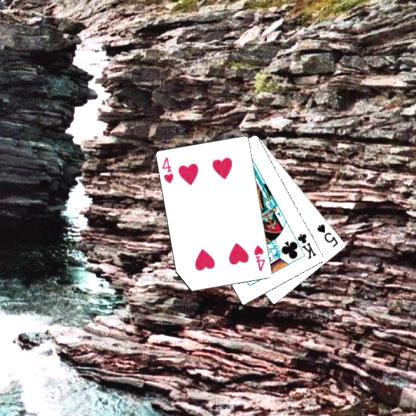4H: (251, 242, 267, 272), (159, 155, 175, 185)
5S: (314, 221, 340, 249)
KC: (290, 231, 318, 261)
